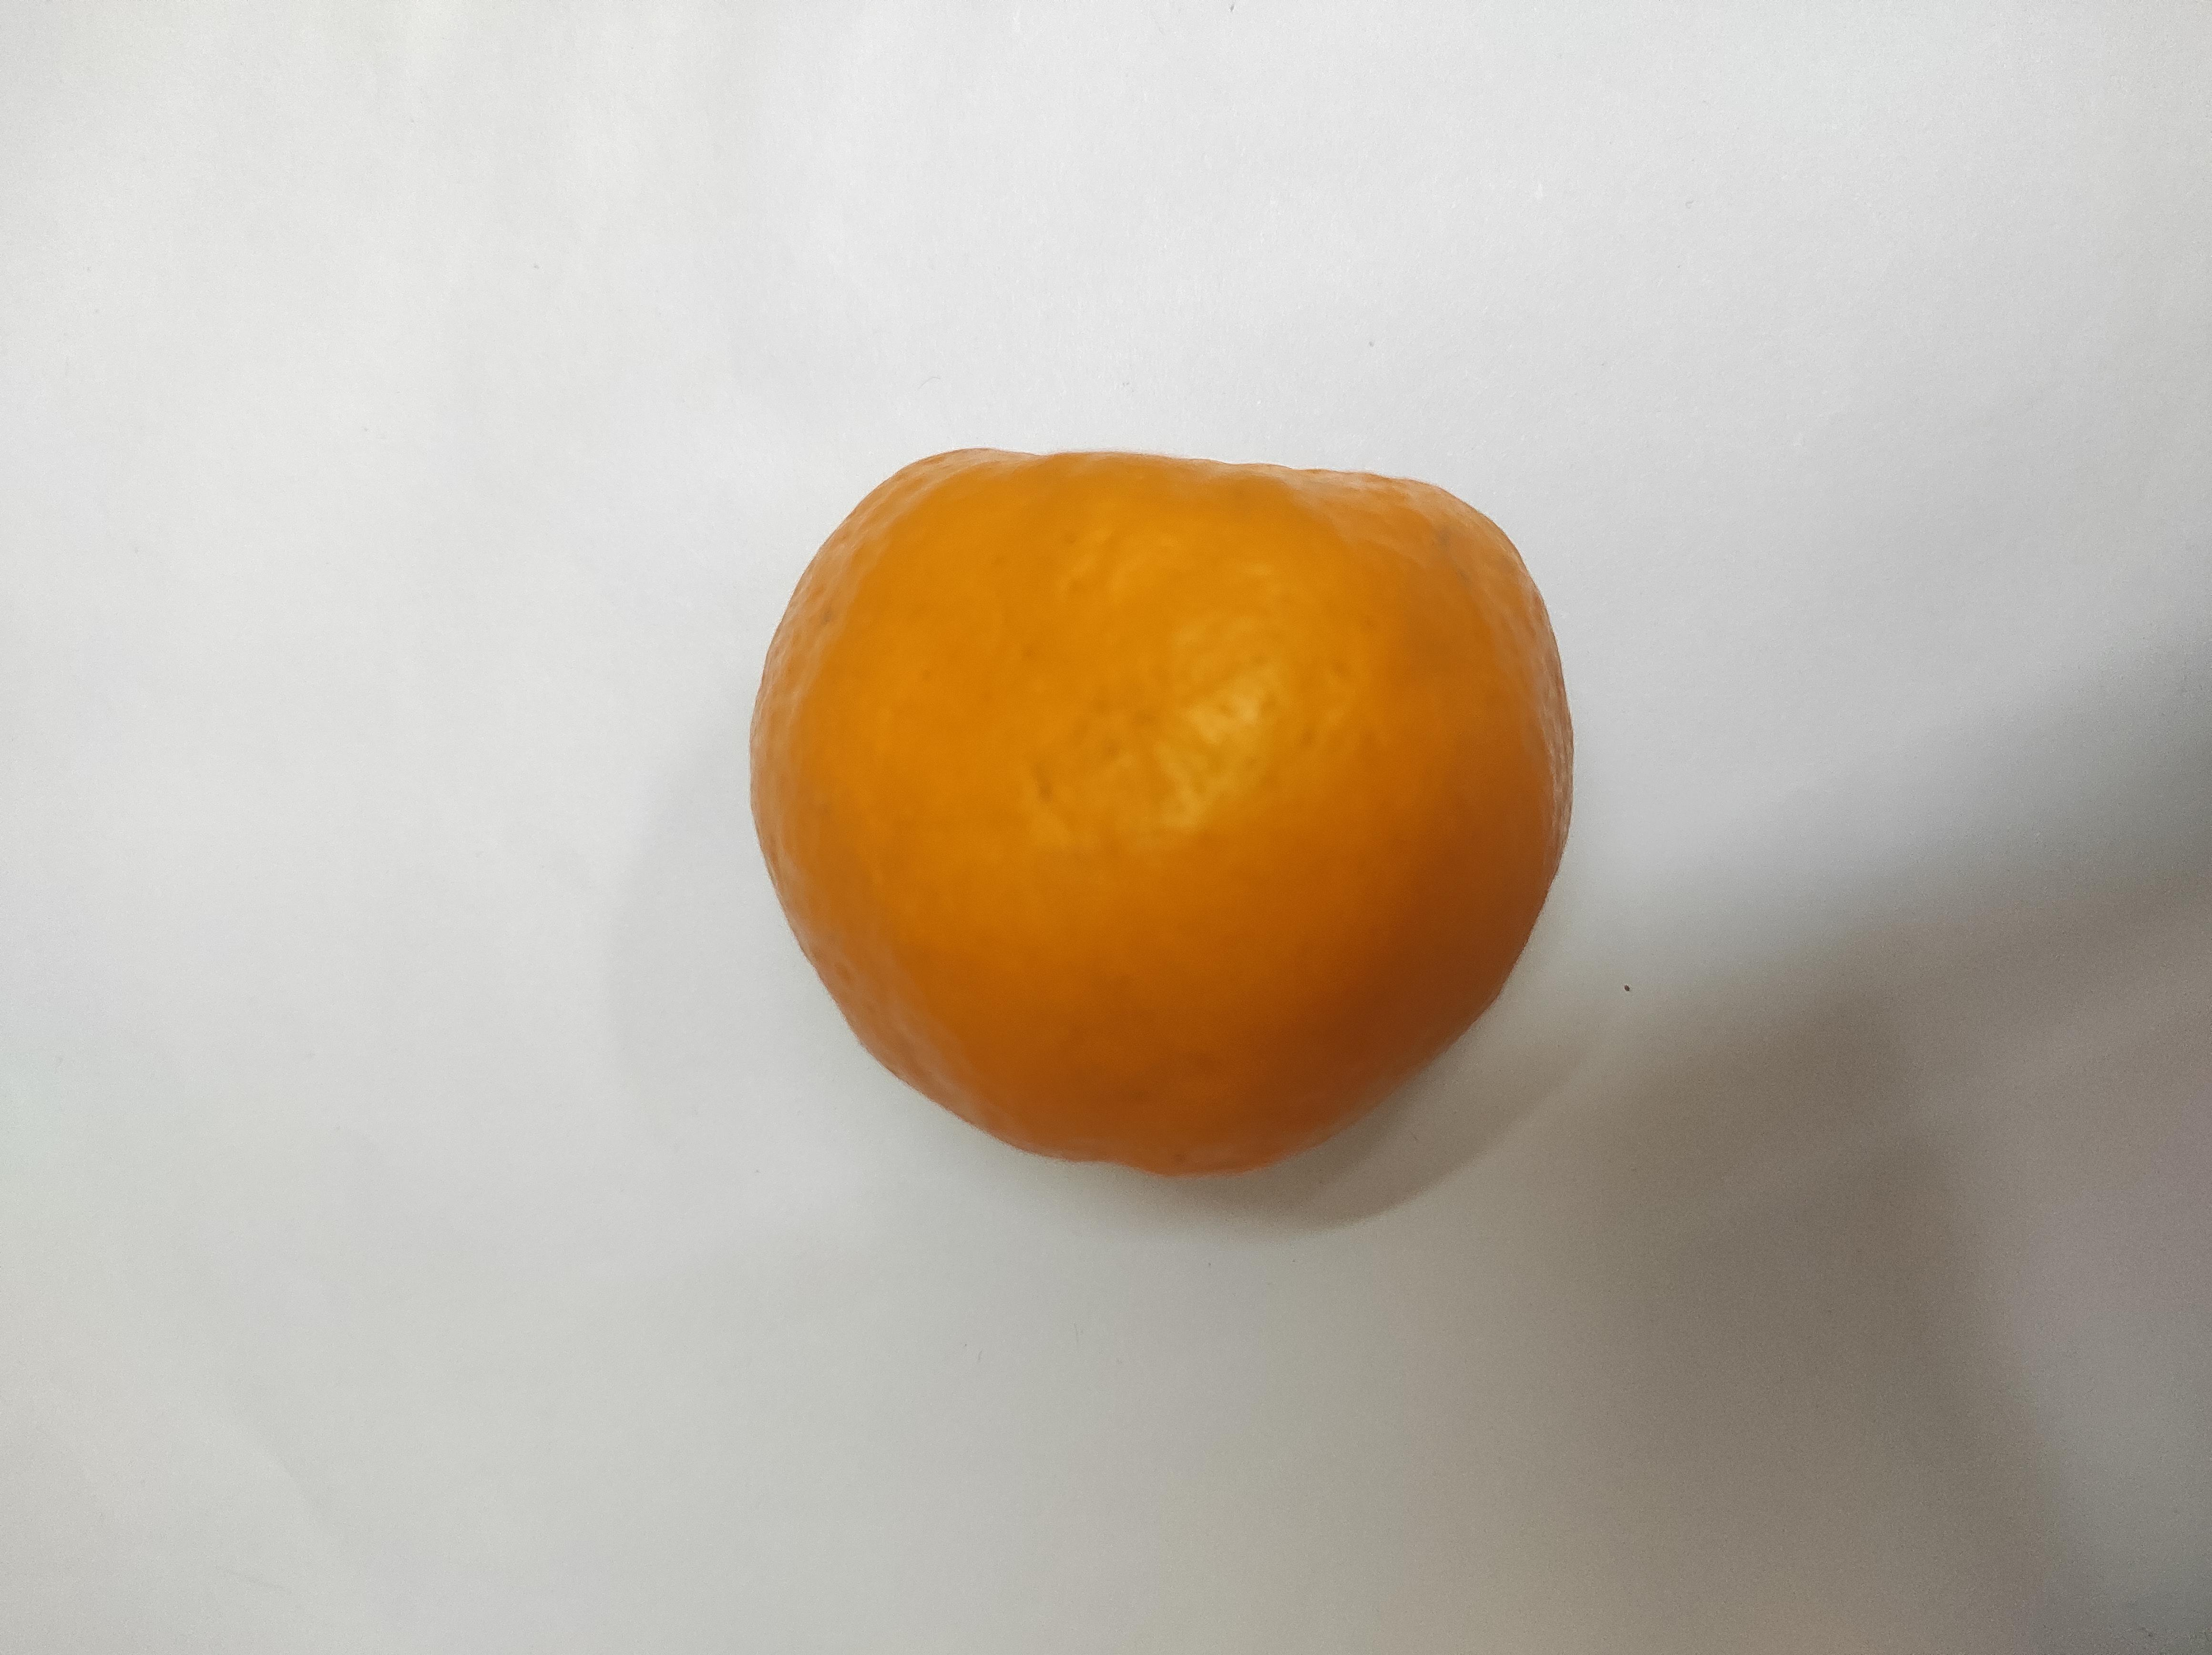Unripe: (636, 553, 1631, 1166)
